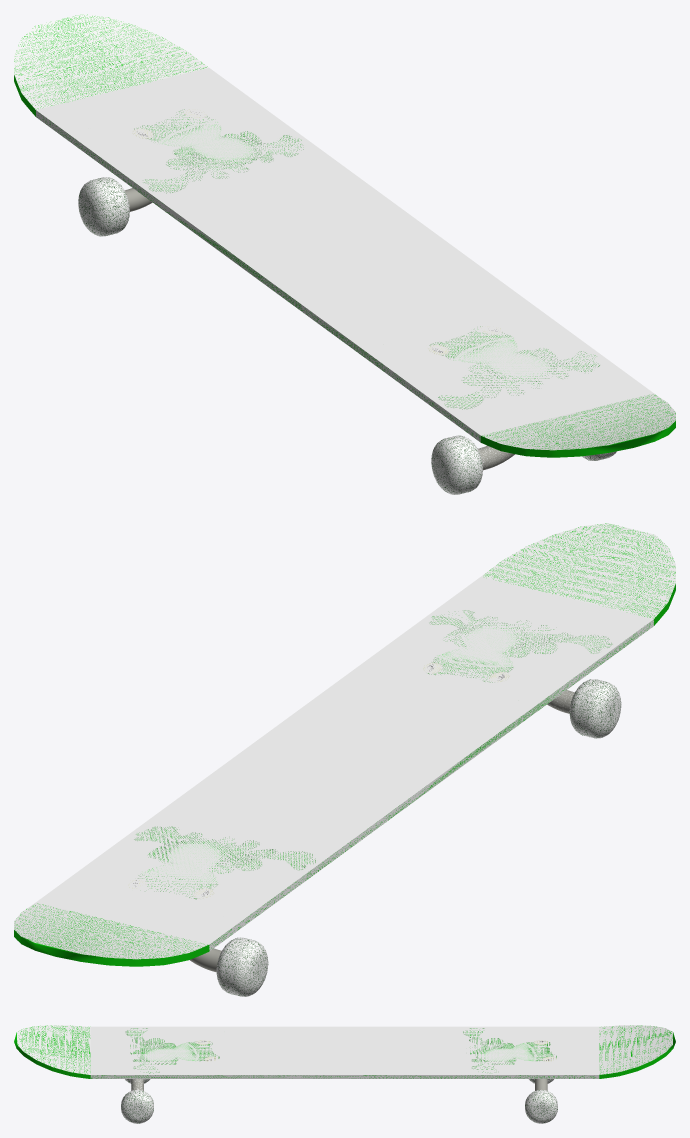
The picture shows the model from 3 angles, top to bottom: view 1: azimuth 30°, elevation 25°; view 2: azimuth 150°, elevation 25°; view 3: azimuth 270°, elevation 25°; orthographic projection. The views are drawn at different scales.
Visible parts, largest first — view 1: mesh14_mesh14-geometry, mesh7_mesh7-geometry; view 2: mesh14_mesh14-geometry, mesh7_mesh7-geometry; view 3: mesh14_mesh14-geometry, mesh7_mesh7-geometry.
Boxes of the visible parts, x1=… form: mesh14_mesh14-geometry: x1=14, y1=14, x2=675, y2=457; mesh7_mesh7-geometry: x1=78, y1=177, x2=616, y2=494; mesh14_mesh14-geometry: x1=14, y1=523, x2=675, y2=966; mesh7_mesh7-geometry: x1=216, y1=679, x2=621, y2=996; mesh14_mesh14-geometry: x1=14, y1=1025, x2=675, y2=1078; mesh7_mesh7-geometry: x1=121, y1=1079, x2=557, y2=1123.
Bounding box in the file's own units: 0.1695 × 0.1048 × 0.9799.
Materials: 6 (2 with a texture image).
